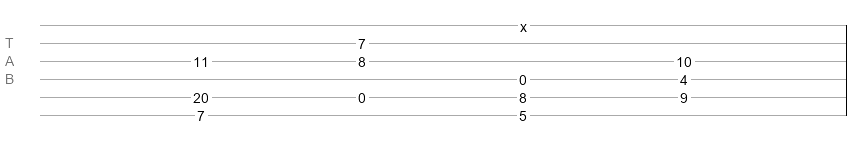0: (358, 90, 366, 100), (519, 72, 527, 82)
10: (676, 54, 692, 64)
11: (193, 54, 209, 64)
20: (193, 90, 209, 100)
4: (680, 72, 688, 82)
5: (519, 108, 527, 118)
7: (197, 108, 205, 118), (358, 36, 366, 46)
8: (358, 54, 366, 64), (519, 90, 527, 100)
9: (680, 90, 688, 100)
x: (520, 19, 527, 27)
